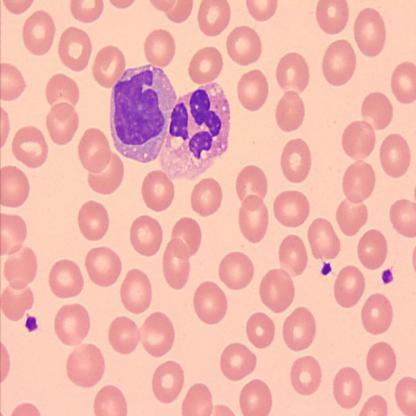Monocyte: (108, 62, 178, 166)
